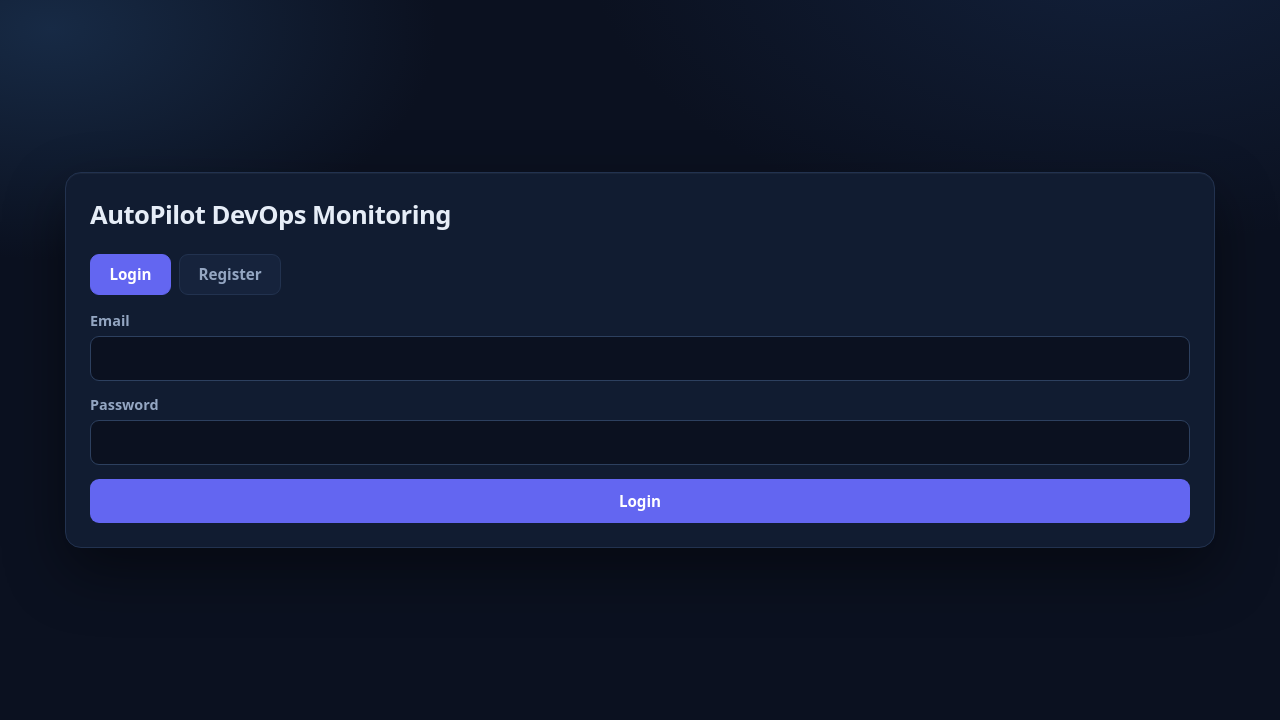
Test case: App › shows API error message on login failure
This screenshot has width=1280, height=720.
In the field labelled "Email": (640, 359) [90, 336, 1190, 381], type "ravidu@gmail.com"
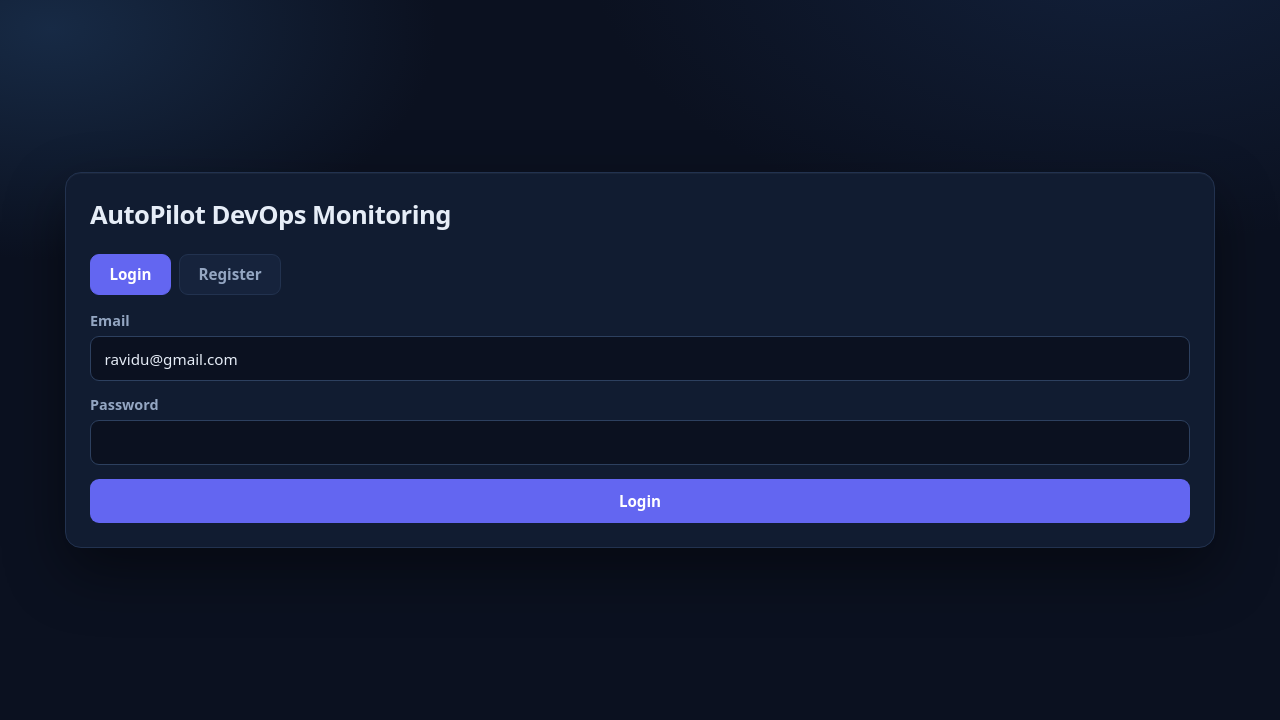
In the password field labelled "Password": (640, 443) [90, 420, 1190, 465], type "wrong-password"
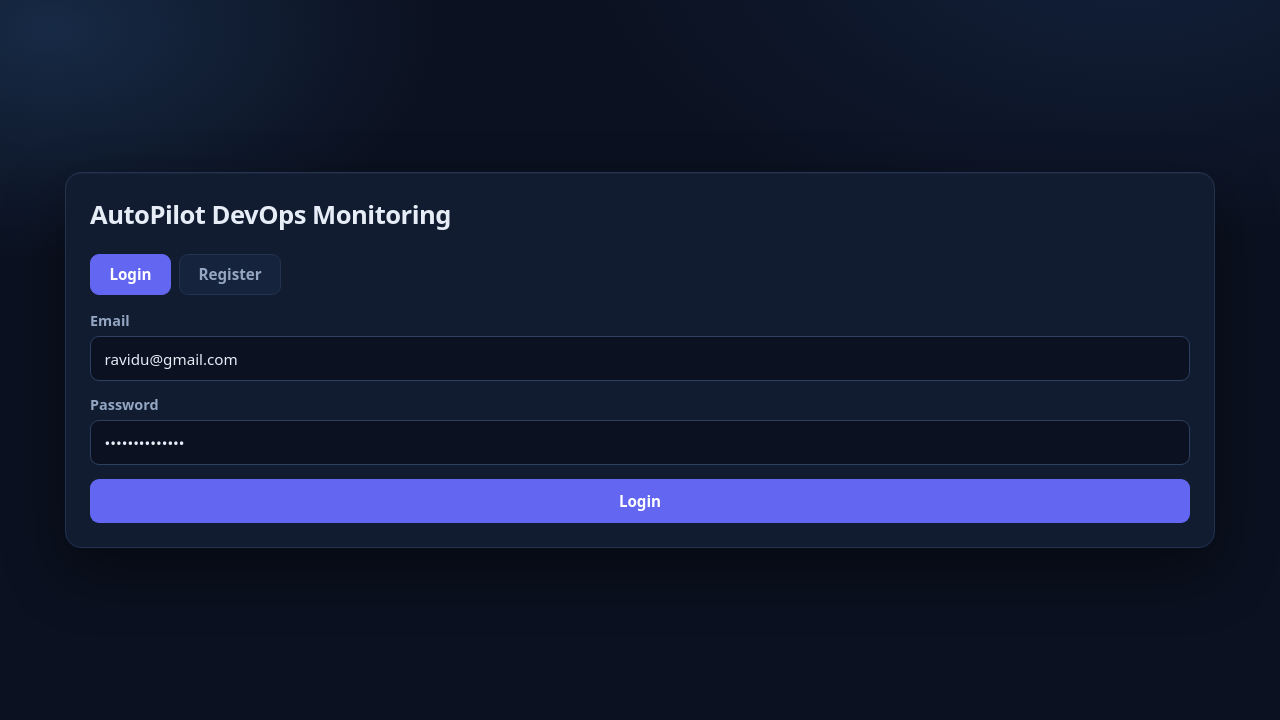
Submit the form labelled "Password", box [90, 311, 1190, 523]
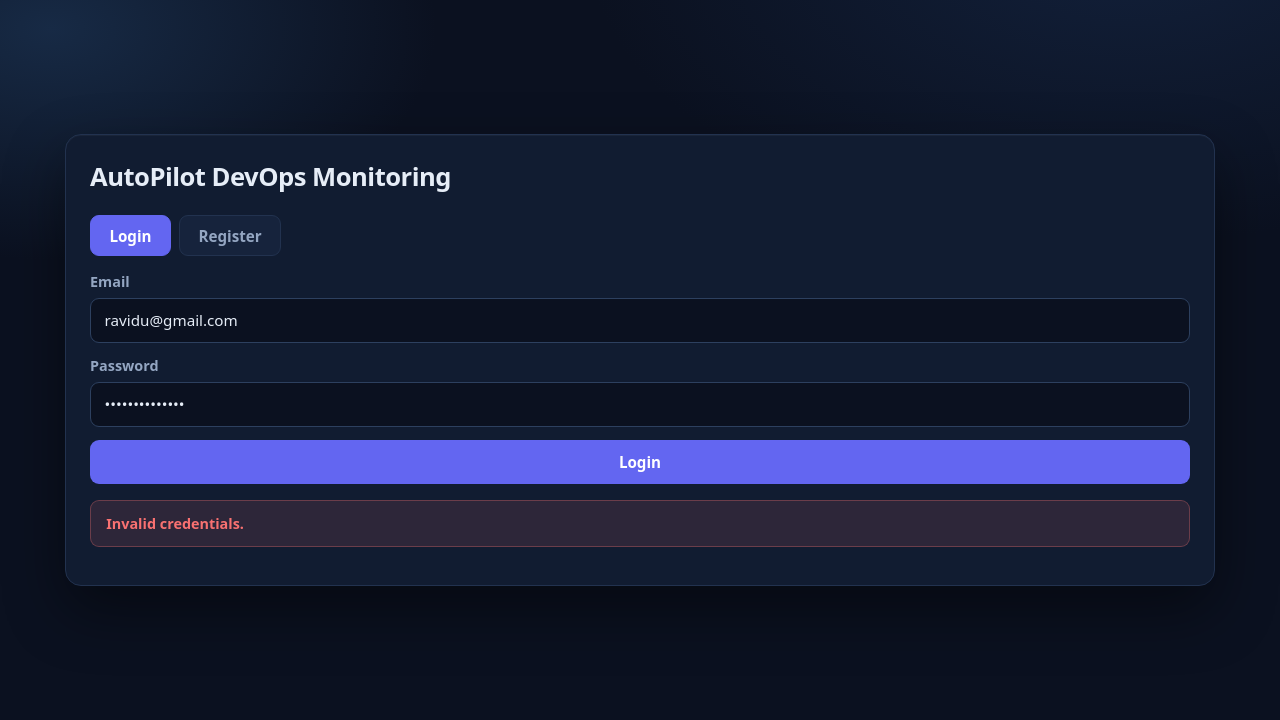
expect the text "Invalid credentials." is shown: met, box [90, 500, 1190, 547]
